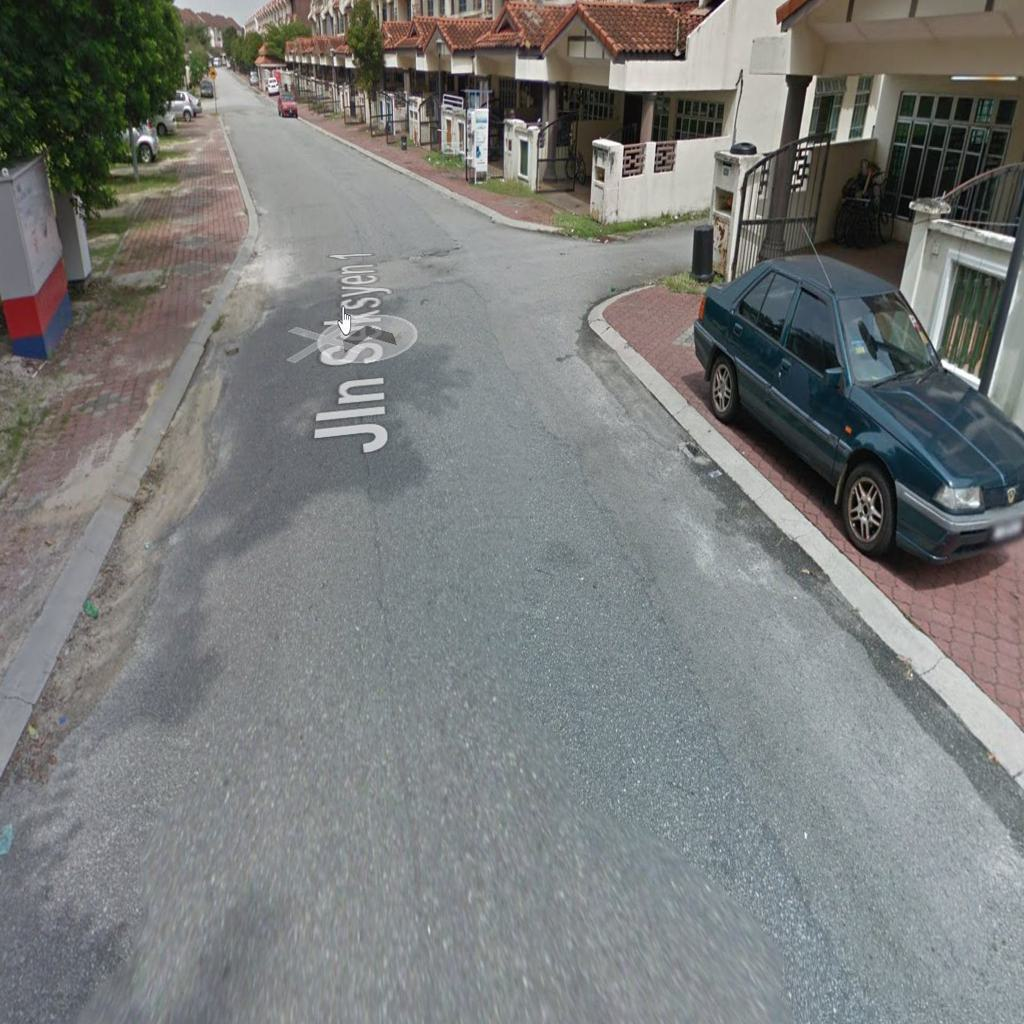Junction: (451, 208, 700, 325)
